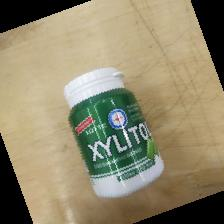Xylitol_green: (62, 66, 166, 200)
